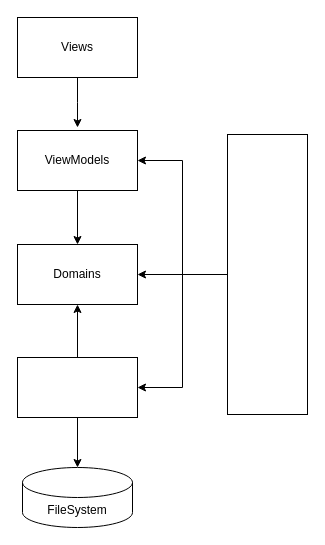
The diagram is 325 pixels wide and 545 high, and some of its shapes have lost their labels. Here are the shapes that lost their labels. From the top down, the centre of each, then its label:
At (x=267, y=274): "Tests".
At (x=77, y=387): "Repositories".
